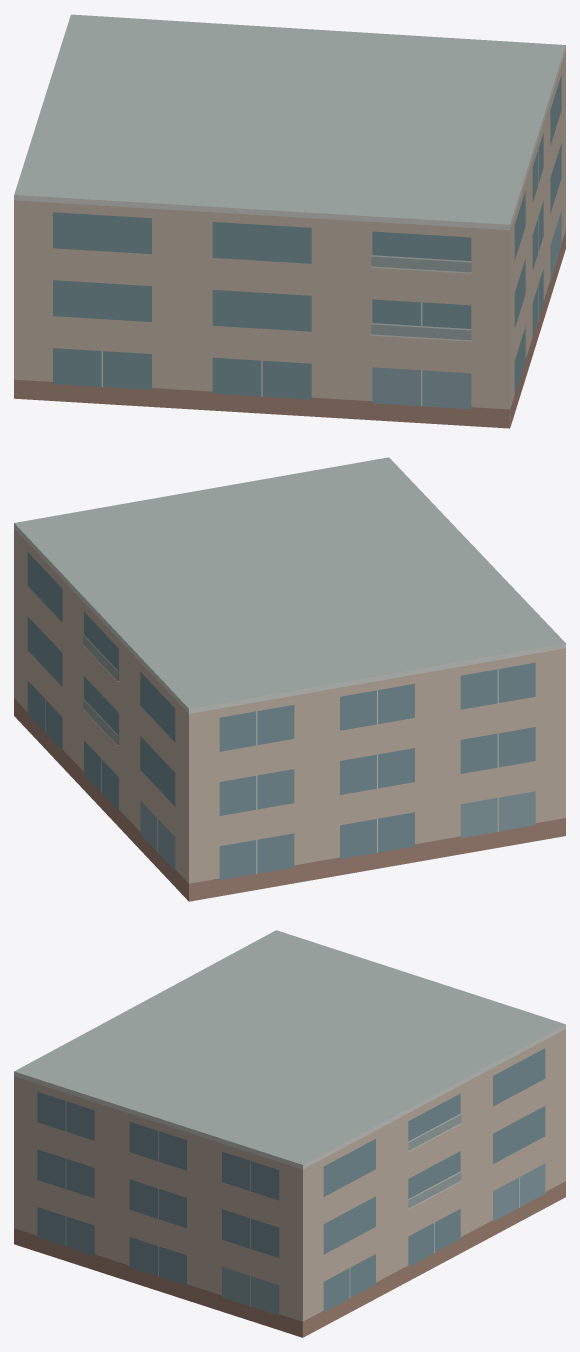
Rendered from survey-upis-32473725.glb.
3 renders of one model, top to bottom at view 1: azimuth 30°, elevation 25°; view 2: azimuth 150°, elevation 25°; view 3: azimuth 270°, elevation 25°, orthographic. The views are drawn at different scales.
Visible parts, largest first — view 1: survey-upis-32473725.tmp; view 2: survey-upis-32473725.tmp; view 3: survey-upis-32473725.tmp.
Part boxes in pixels (left/top/right/bottom): survey-upis-32473725.tmp: left=14, top=14, right=565, bottom=428; survey-upis-32473725.tmp: left=14, top=457, right=565, bottom=901; survey-upis-32473725.tmp: left=14, top=930, right=565, bottom=1337.
Bounding box in the file's own units: 26.68 × 9.15 × 26.49.
